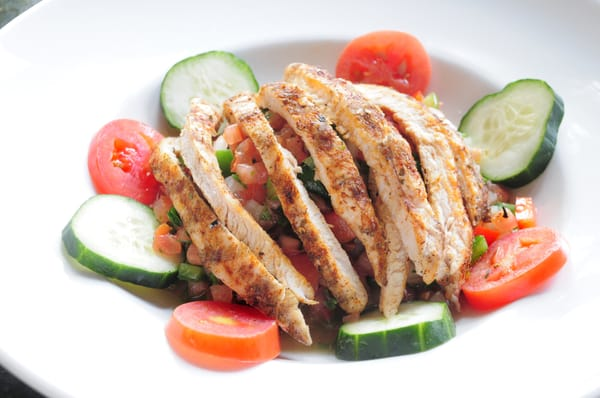soup: (147, 59, 483, 349)
